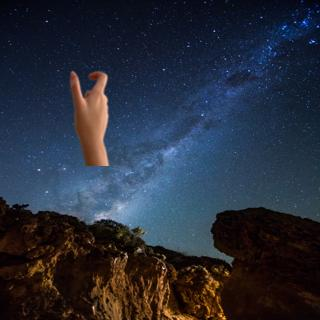Irritated: (69, 67, 119, 161)
